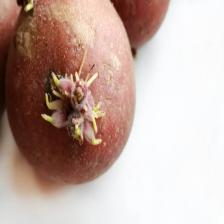Sprouted potato: (1, 0, 140, 187)
